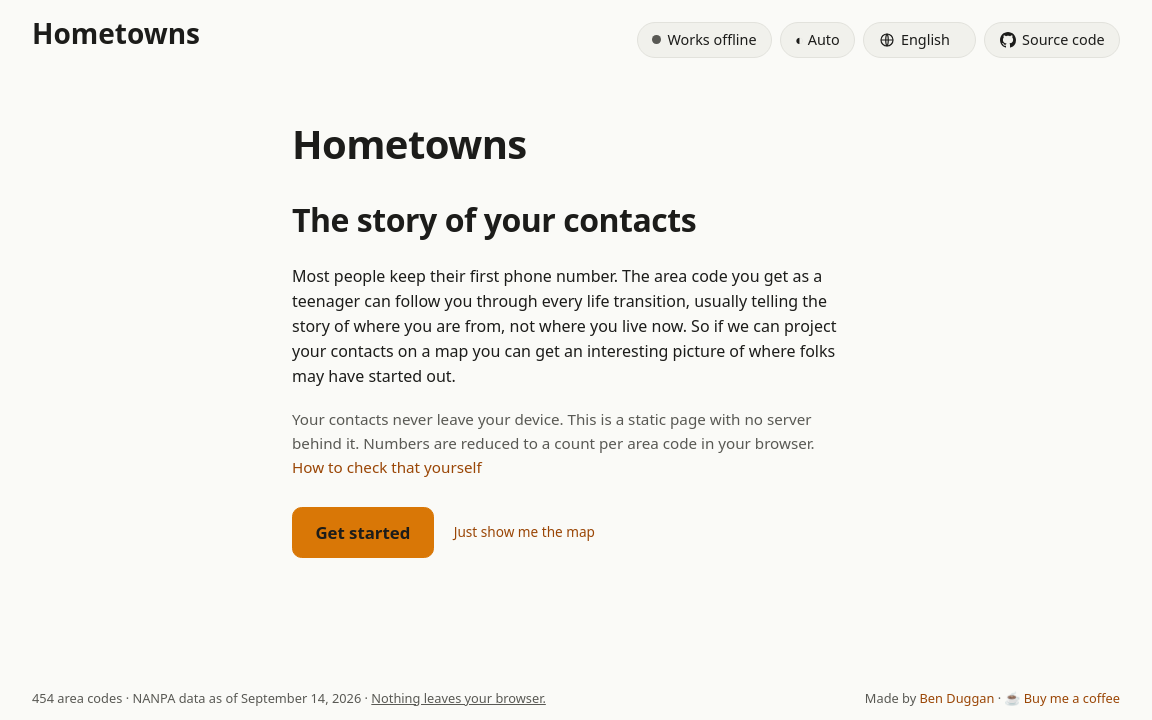
it: App › opens on the intro, then setup, then the map
expect the heading "Hometowns" is shown: met, box [32,12,200,54]
expect the text "The story of your contacts" is shown: met, box [292,198,696,241]
Click the button "Get started".
click(363, 533)  # box [292,507,434,558]
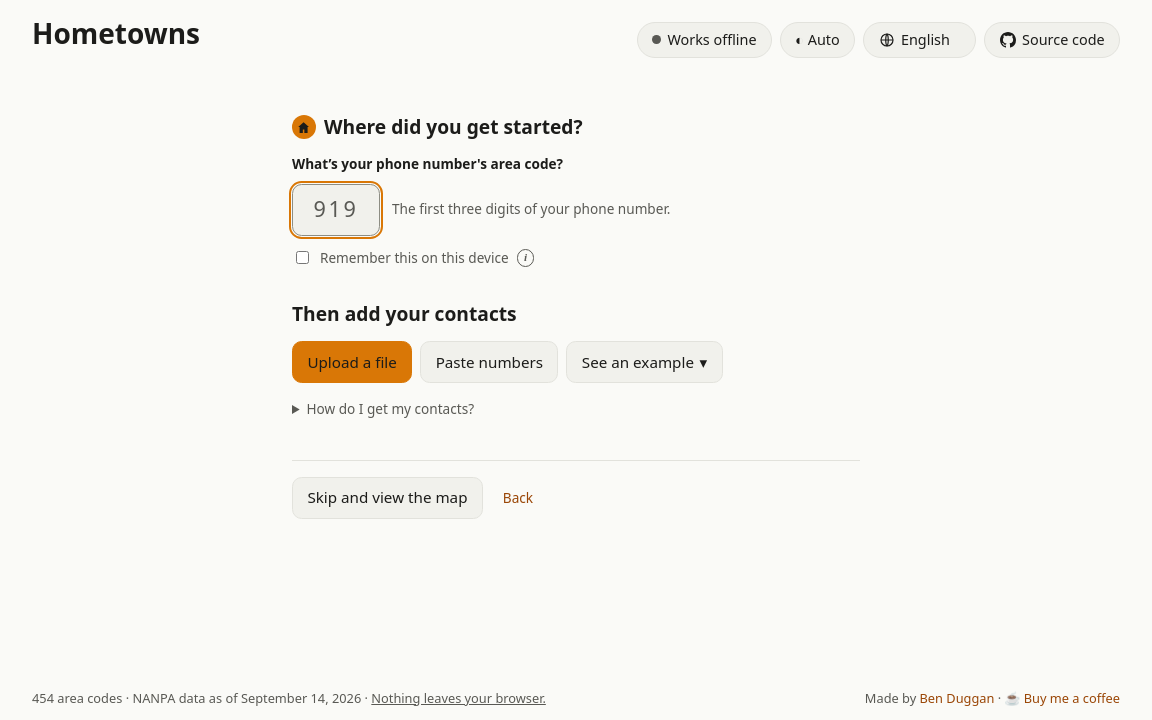
expect the field labelled "What’s your phone number's area code?" is shown: met, box [292,184,380,236]
Click the button "Back".
click(518, 498)  # box [503,488,533,508]
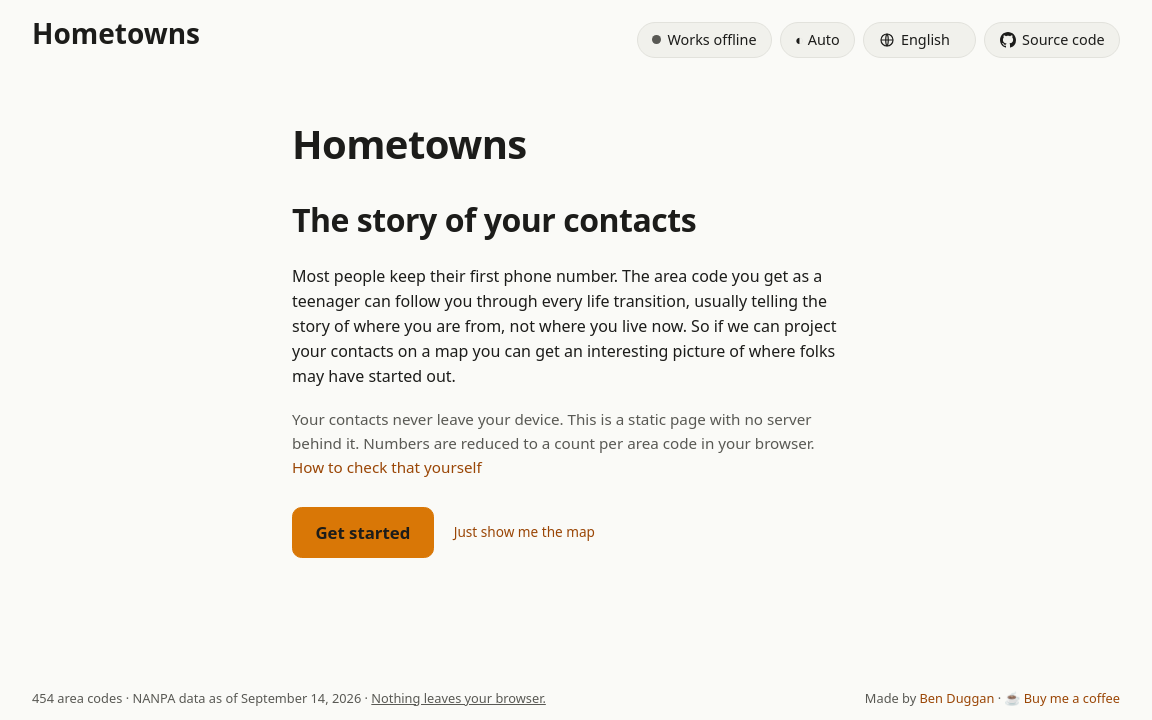
expect the text "The story of your contacts" is shown: met, box [292,198,696,241]
Click the button "Just show me the map".
click(524, 533)  # box [454,522,595,543]
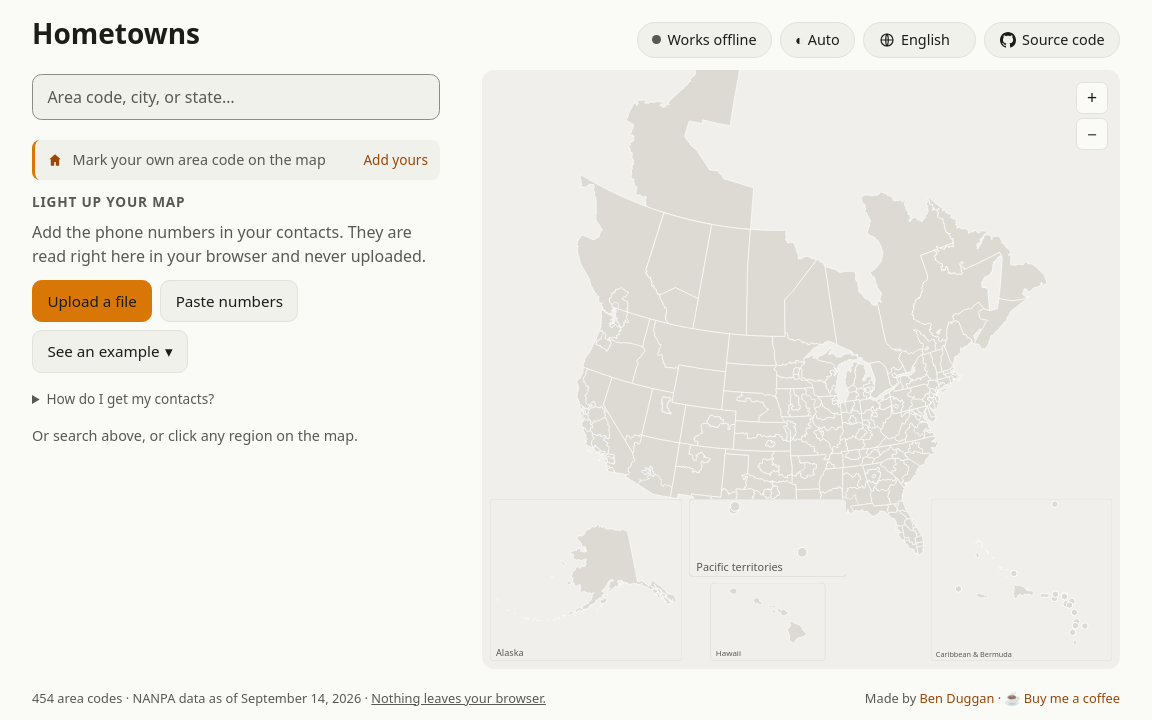
expect the picture named "map of north american area codes" is shown: met, box [482,70,1120,669]
expect the heading "Light up your map" is shown: met, box [32,192,185,211]
